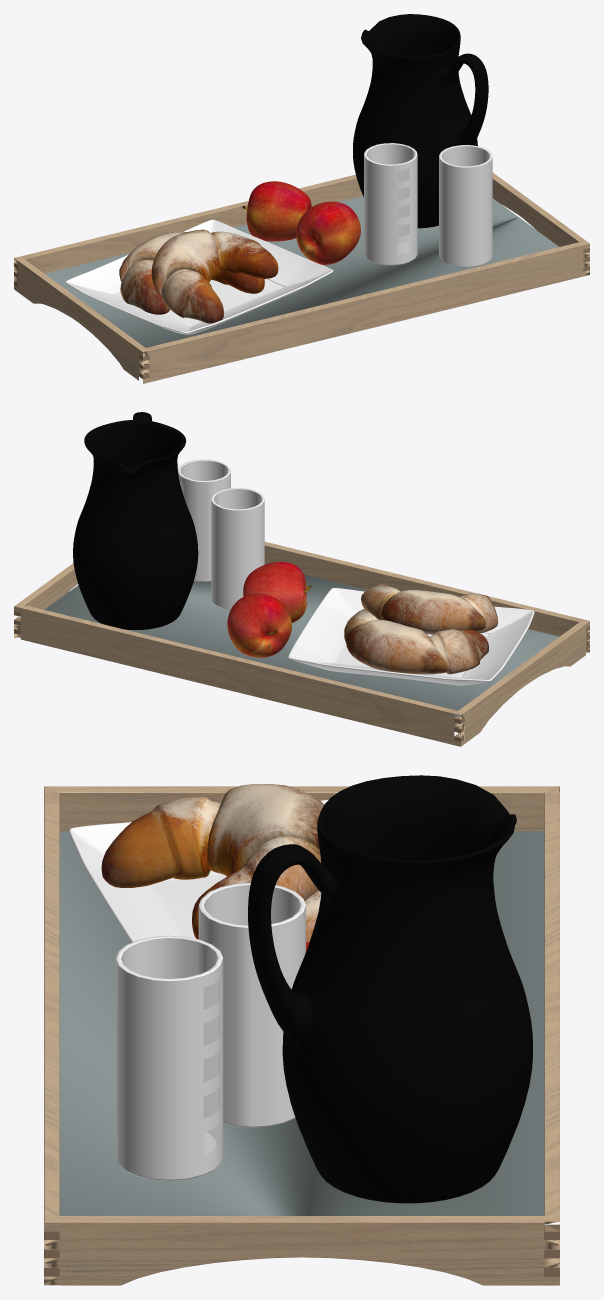
Rendered from breakfast_set_obj.glb.
The picture shows the model from 3 angles, top to bottom: view 1: azimuth 30°, elevation 25°; view 2: azimuth 150°, elevation 25°; view 3: azimuth 270°, elevation 25°; orthographic projection. The views are drawn at different scales.
Visible parts, largest first — view 1: breakfast_set; view 2: breakfast_set; view 3: breakfast_set.
Part boxes in pixels (x1,y1,x2,y2): breakfast_set: [14, 14, 589, 383]; breakfast_set: [14, 412, 589, 746]; breakfast_set: [44, 775, 559, 1285].
Size of the model in its own units: 66 by 27.12 by 33.
Materials: 12 (7 with a texture image).
